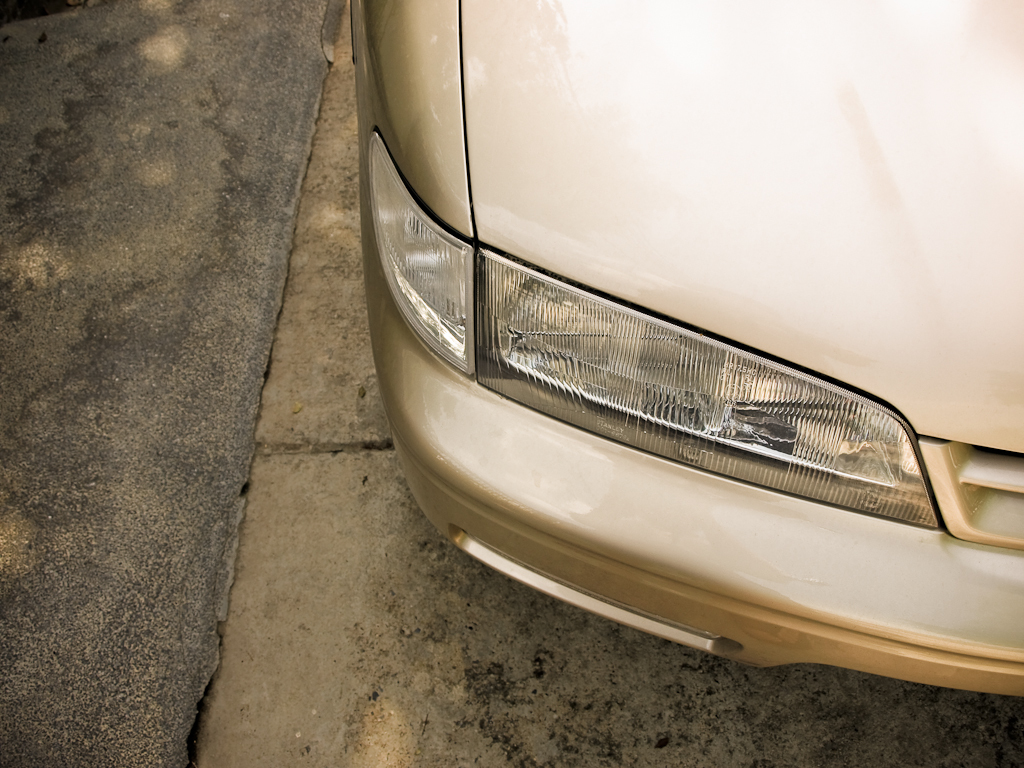Car: (348, 0, 1022, 705)
